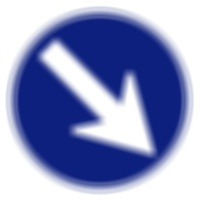Direction_sign: (15, 8, 195, 189)
